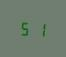five: (19, 19, 31, 36)
one: (32, 19, 44, 37)
